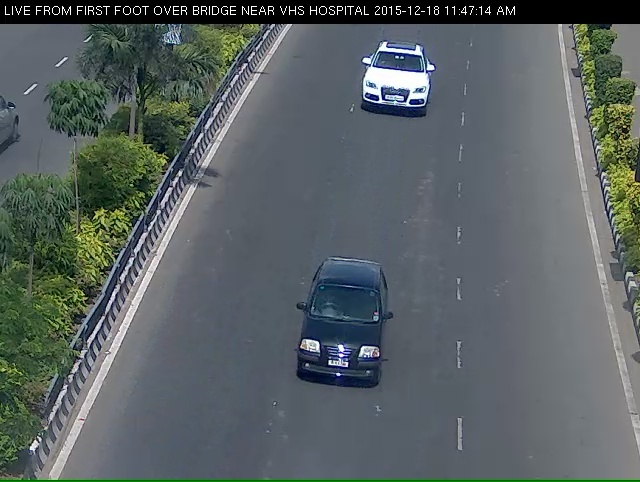Car: (280, 269, 402, 429), (356, 41, 440, 127)
